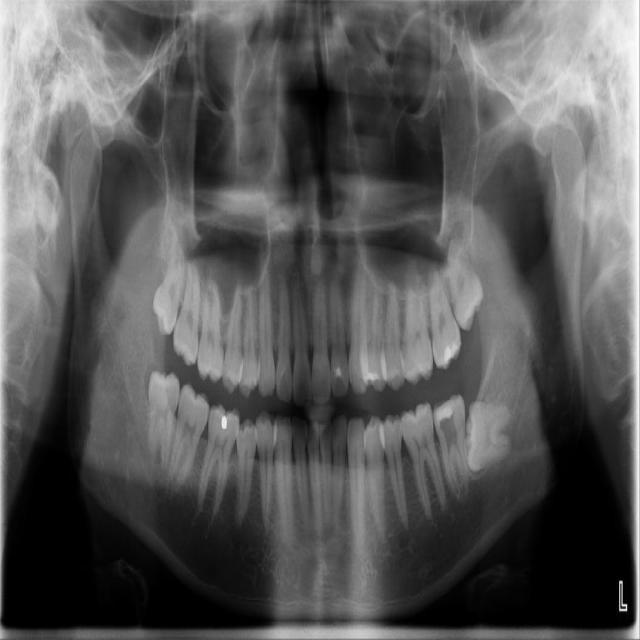3M ESPE Implant: (149, 236, 186, 337)
52: (200, 402, 244, 454), (431, 392, 468, 445), (432, 317, 462, 371), (360, 347, 388, 392), (329, 354, 349, 398)
73: (606, 581, 615, 594)
BioHorizons Implant: (428, 263, 462, 371)
BioLife Implant: (443, 233, 488, 333)
Biomet 3i Implant: (462, 398, 514, 473)
Blue Sky Bio Implant: (431, 392, 476, 505)
Caries: (172, 243, 201, 368)
Implant: (166, 380, 214, 494)
Keystone Dental Implant: (147, 370, 180, 472)
